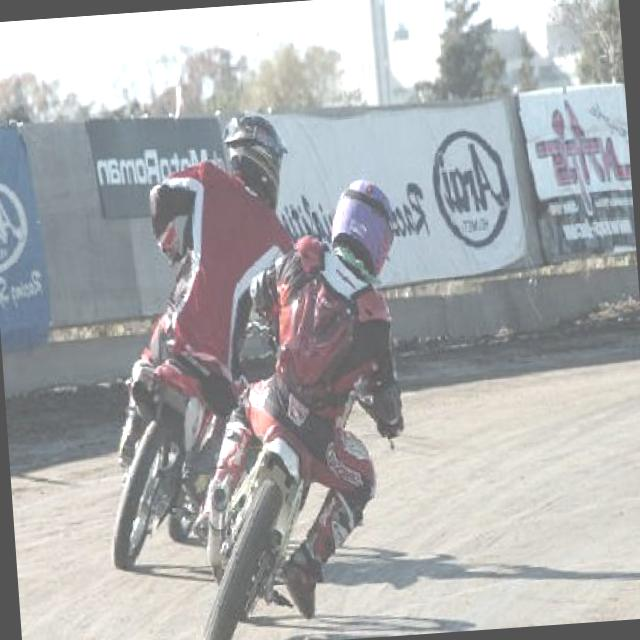Person: (174, 170, 424, 618), (92, 104, 314, 514)
